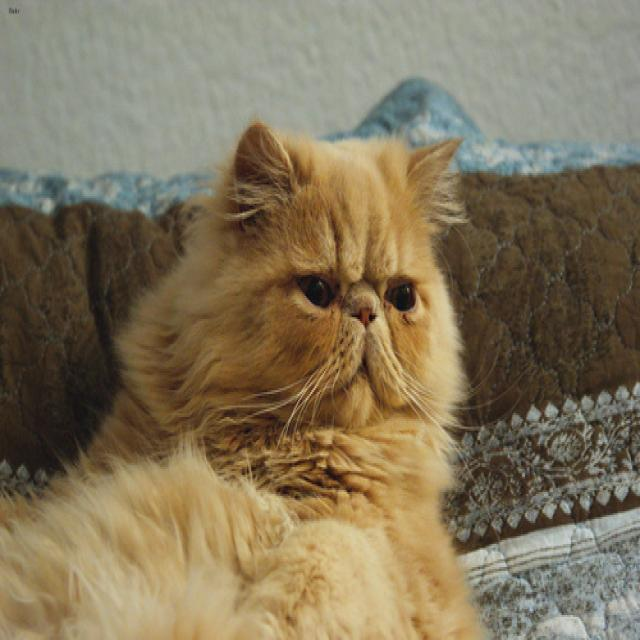Persian: (118, 112, 463, 467)
